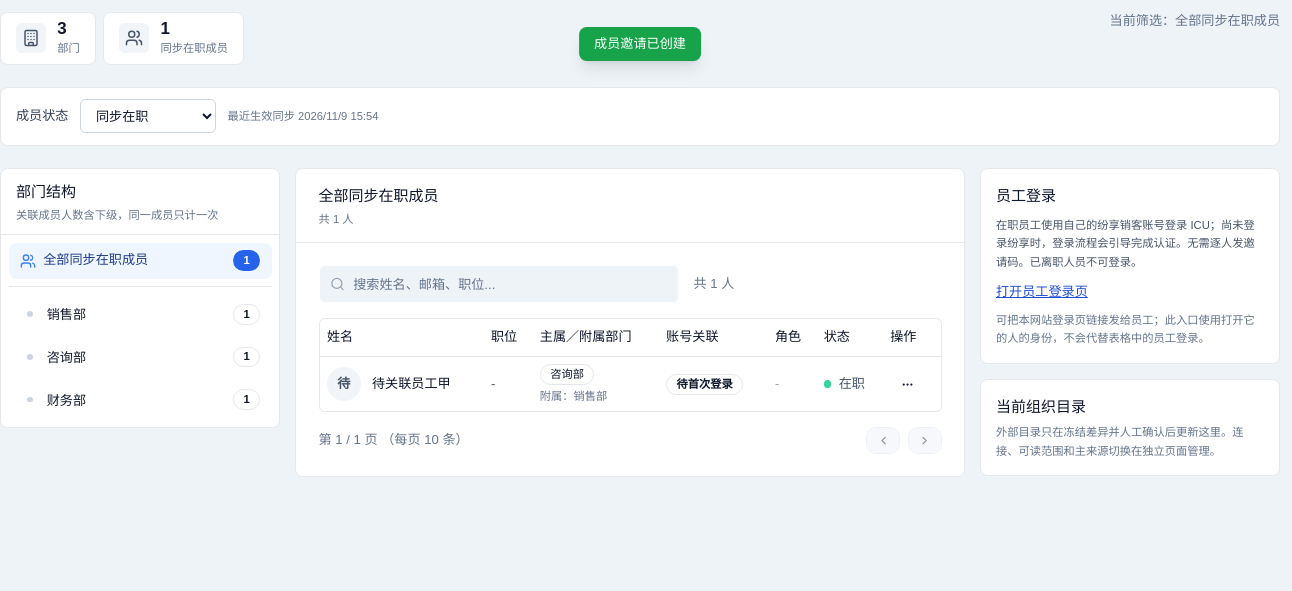
Scenario: cascades department selection through primary and secondary memberships and keeps unlinked employees visible
The width and height of the screenshot is (1292, 591).
Click the button "销售部 1" at (66, 315), box [27,304,260,325]
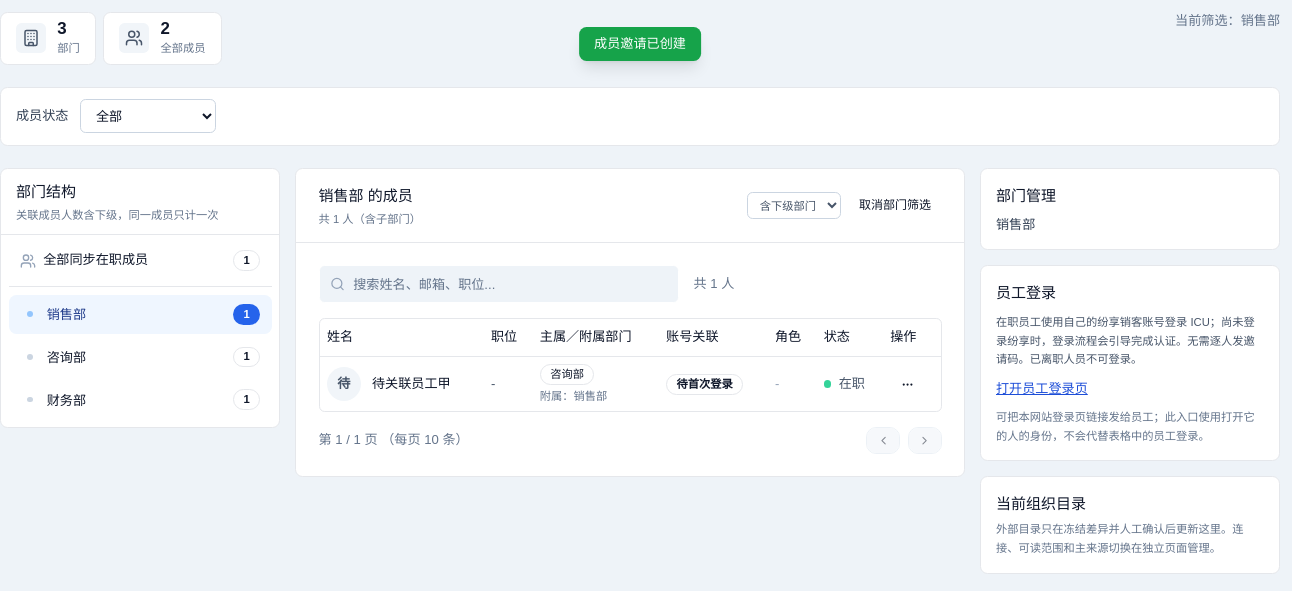
Expected: the text "待关联员工甲" is shown, [372,375,451,394]
Expected: the text "财务员工乙" is not shown
Select "全部" in the dropdown labelled "成员状态" at (148, 116), box [80,99,216,133]
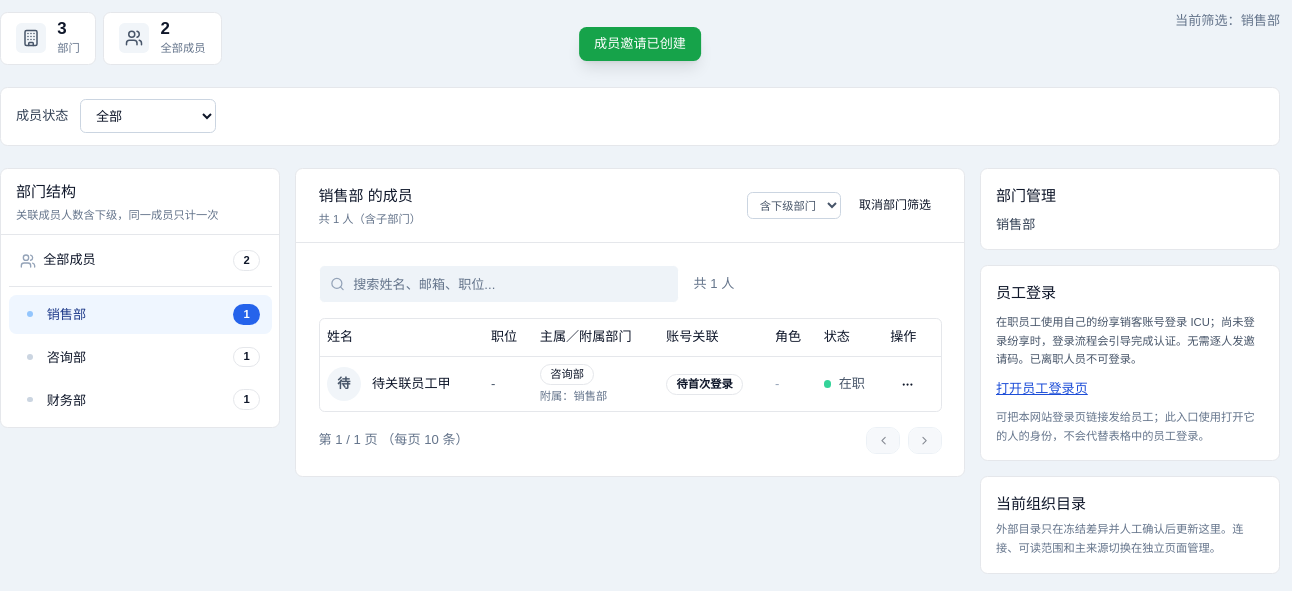
Click the button "财务部 1" at (66, 400), box [27,389,260,410]
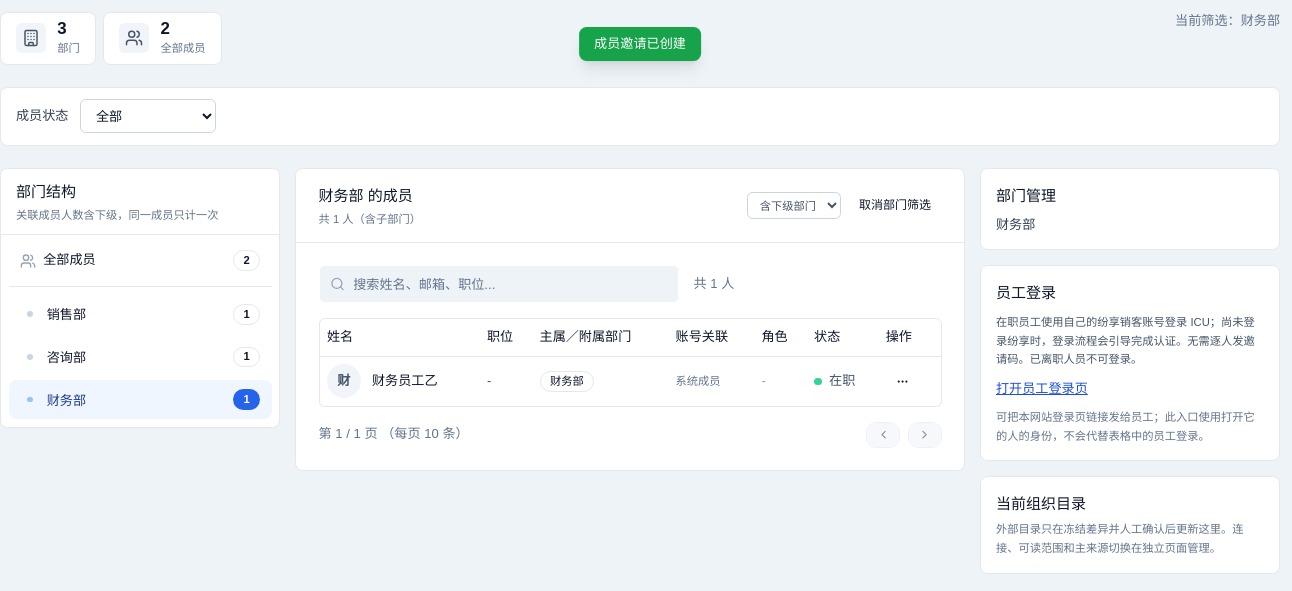
Now the text "待关联员工甲" is gone
Now the text "财务员工乙" is shown, box [372,372,438,391]
